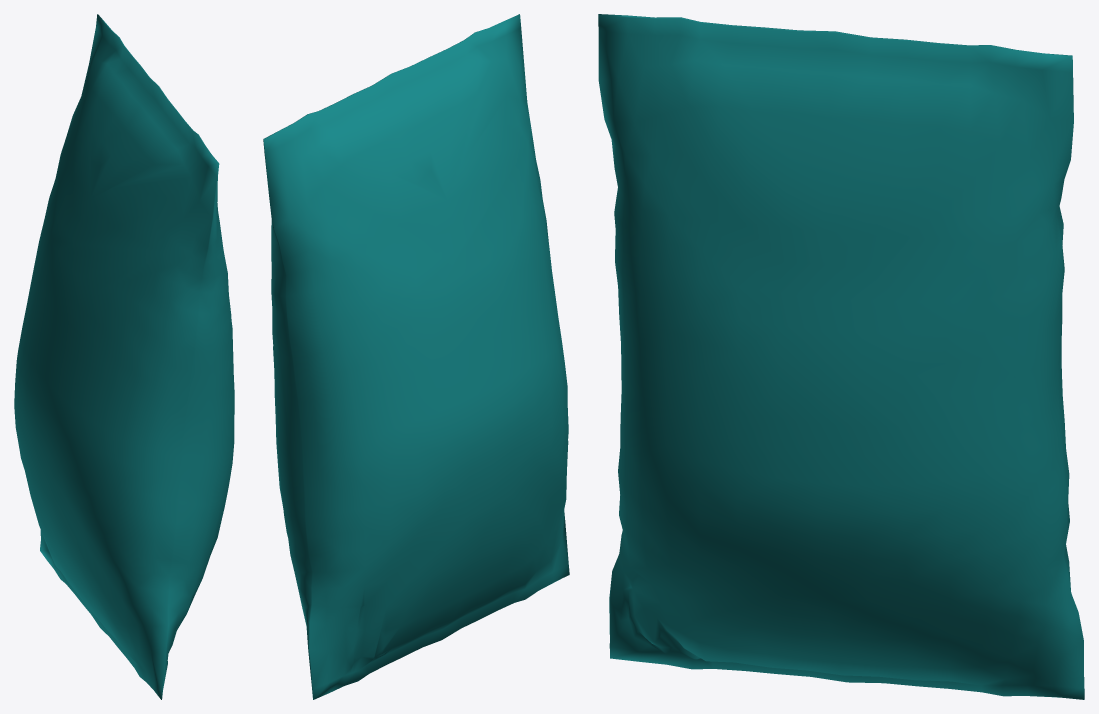
File: chipsy.fbx
The picture shows the model from 3 angles, left to right: view 1: azimuth 30°, elevation 25°; view 2: azimuth 150°, elevation 25°; view 3: azimuth 270°, elevation 25°; orthographic projection. The views are drawn at different scales.
Visible parts, largest first — view 1: chipsy; view 2: chipsy; view 3: chipsy.
Part boxes in pixels (x1,y1,x2,y2): chipsy: (14, 14, 234, 699); chipsy: (263, 14, 569, 699); chipsy: (598, 14, 1084, 699).
Size of the model in its own units: 19.76 by 57.41 by 36.9.
